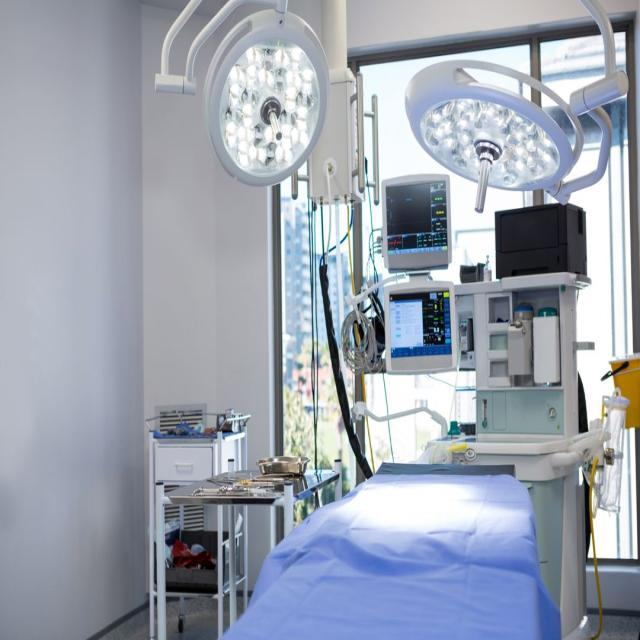Monitor: (374, 271, 466, 384), (375, 166, 461, 273)
bed: (219, 458, 556, 640)
tools_table: (184, 438, 342, 640)
